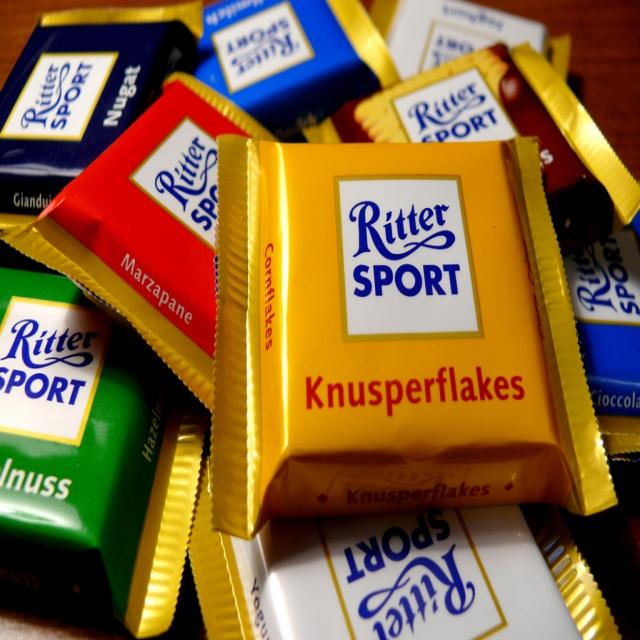rittersport: (335, 176, 481, 341), (324, 511, 506, 640), (2, 291, 109, 443), (131, 118, 220, 250), (395, 65, 521, 149), (2, 51, 118, 140), (557, 210, 640, 326), (212, 2, 312, 93)
